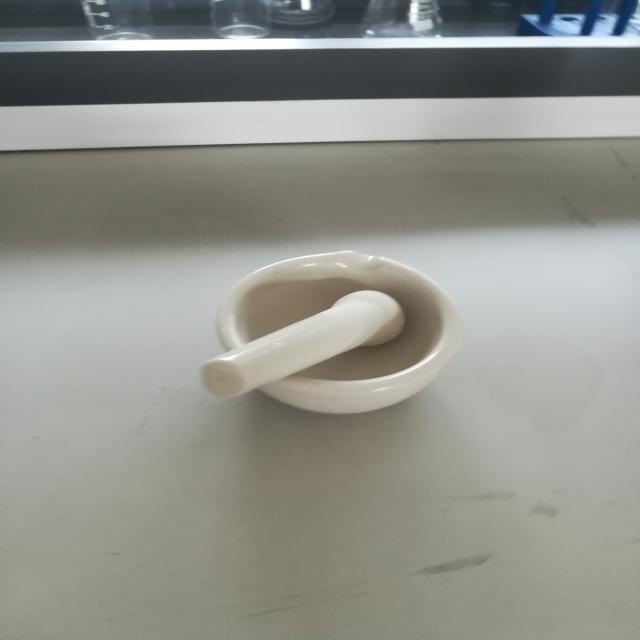Porcelain_Mortar Pestle: (164, 211, 490, 449)
